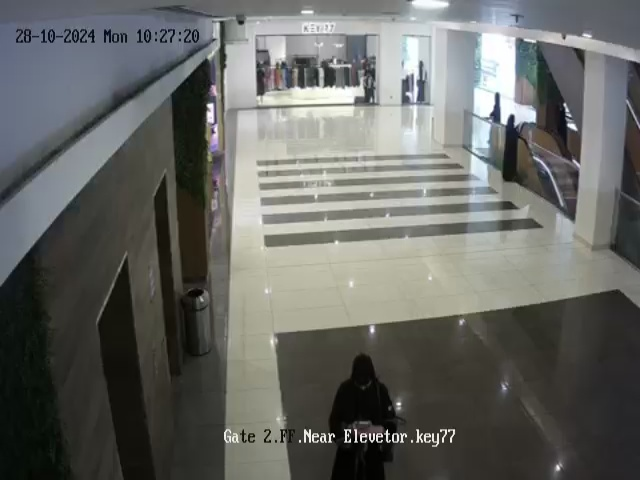female: (328, 353, 398, 480), (503, 112, 528, 186), (489, 89, 507, 152)
other: (413, 58, 433, 110)
